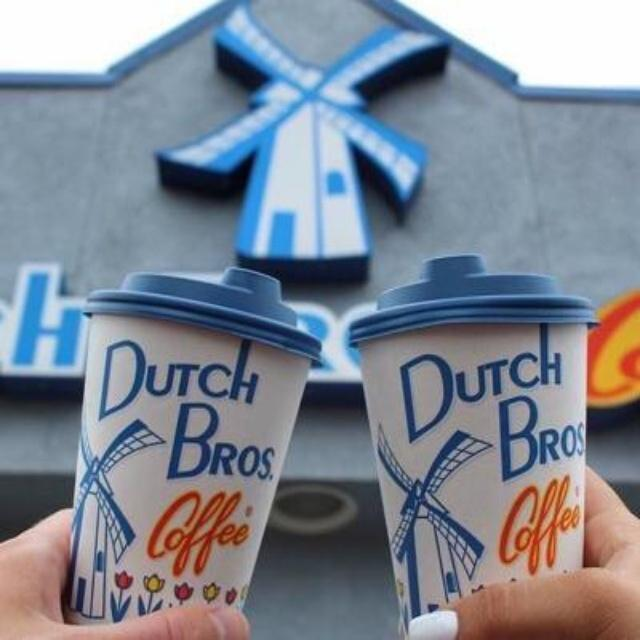paper_cup: (66, 255, 328, 640), (344, 255, 601, 640)
